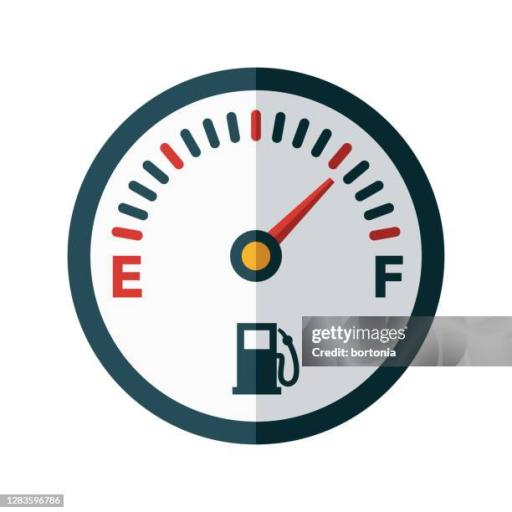empty: (109, 251, 144, 304)
fuel_icon: (228, 320, 300, 405)
full: (372, 250, 404, 300)
guage_area: (81, 92, 415, 414)
needle_center: (222, 224, 286, 286)
needle_tip: (315, 176, 339, 196)
